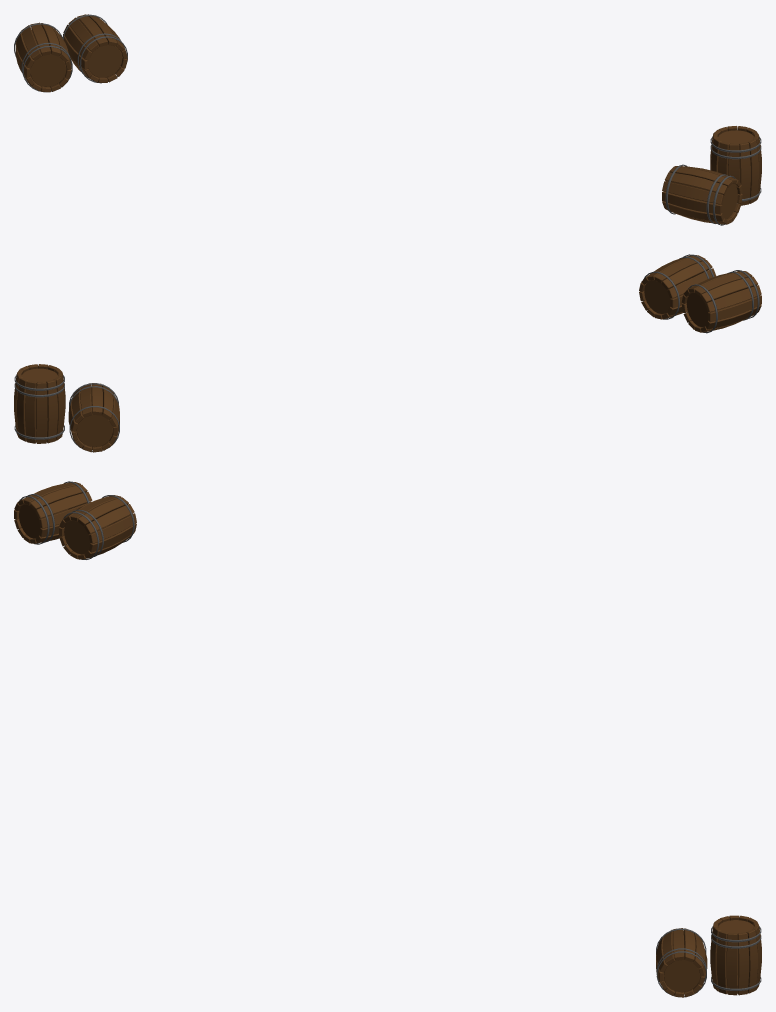
The model's file is BarrelsBasic.fbx.
3 views of the same model, one above another, from view 1: azimuth 30°, elevation 25°; view 2: azimuth 150°, elevation 25°; view 3: azimuth 330°, elevation 25° (orthographic).
Visible parts, largest first — view 1: Barrel5, Barrel6, Barrel7, Barrel; view 2: Barrel, Barrel7, Barrel5, Barrel6; view 3: Barrel, Barrel6, Barrel5, Barrel7.
Part boxes in pixels (x1,y1,x2,y2): Barrel5: [662, 164, 742, 225]; Barrel6: [62, 14, 127, 83]; Barrel7: [14, 22, 72, 92]; Barrel: [710, 126, 761, 205]; Barrel: [14, 364, 65, 443]; Barrel7: [681, 270, 761, 333]; Barrel5: [68, 383, 119, 452]; Barrel6: [639, 254, 716, 319]; Barrel: [710, 915, 761, 995]; Barrel6: [59, 495, 136, 559]; Barrel5: [656, 928, 707, 997]; Barrel7: [14, 481, 92, 544].
Bounding box in the file's own units: 51.26 × 21.92 × 6.49.
